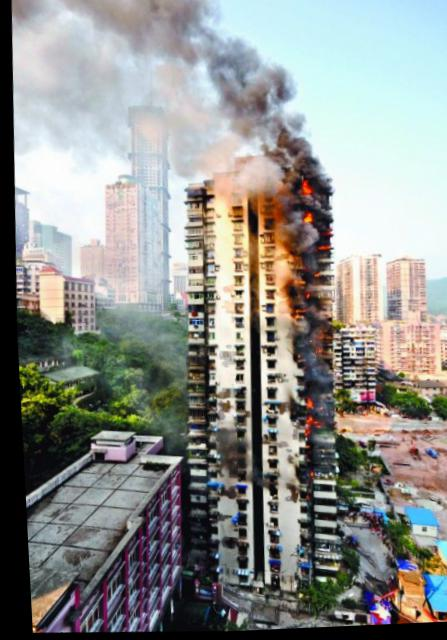fire: (297, 179, 311, 195), (298, 397, 311, 412), (296, 212, 308, 222), (299, 418, 307, 433)
